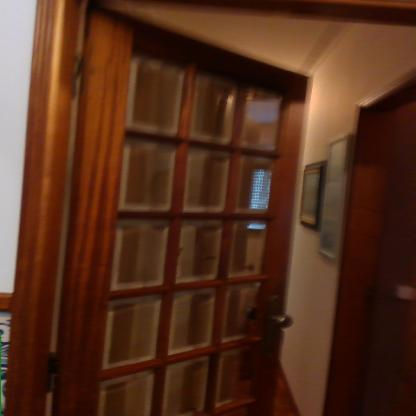semi: (27, 2, 415, 416)
